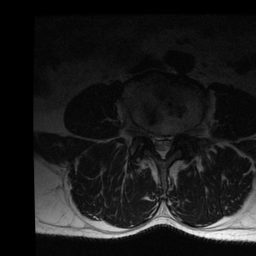CCS_normal: (158, 129, 166, 165)
LFS_severe_stenosis: (174, 127, 183, 145)
LLS_normal: (166, 128, 174, 151)
RFS_stenosis: (142, 124, 151, 146)
RLS_normal: (151, 129, 158, 150)
